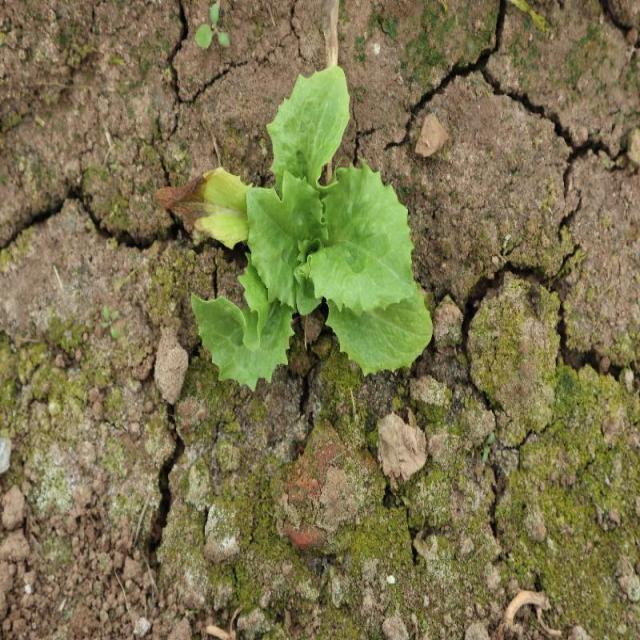crop: (190, 68, 433, 392)
